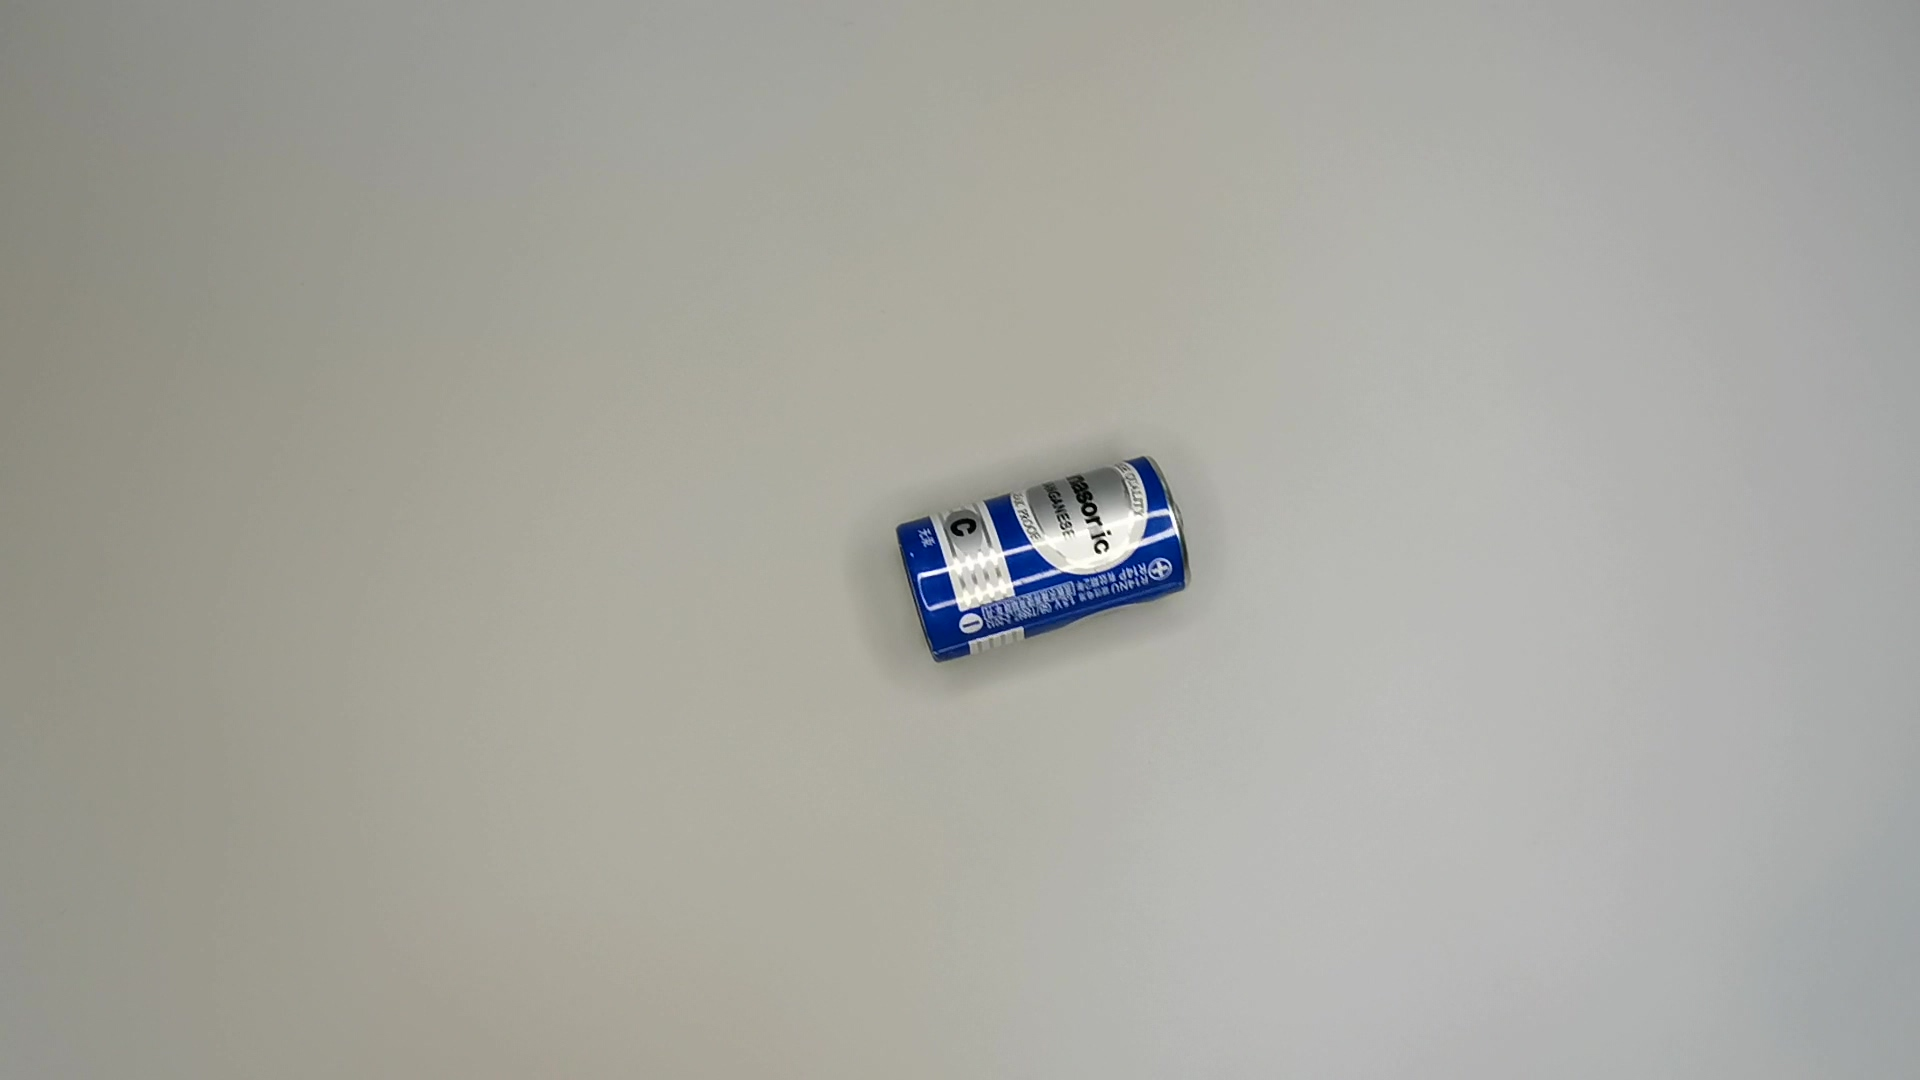battery: (889, 443, 1201, 676)
